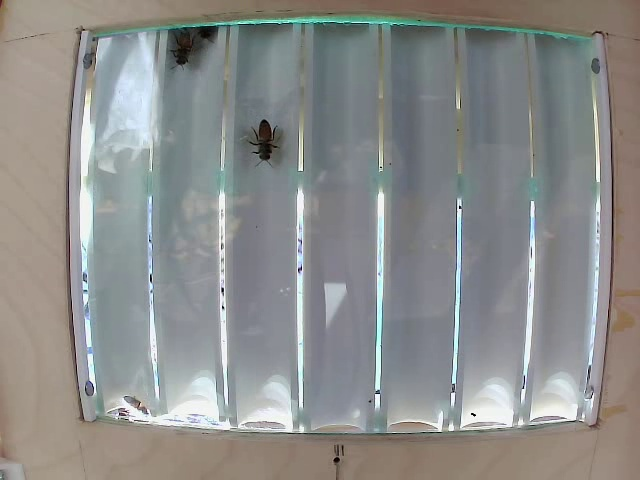bee: (245, 103, 287, 177), (166, 27, 200, 70)
